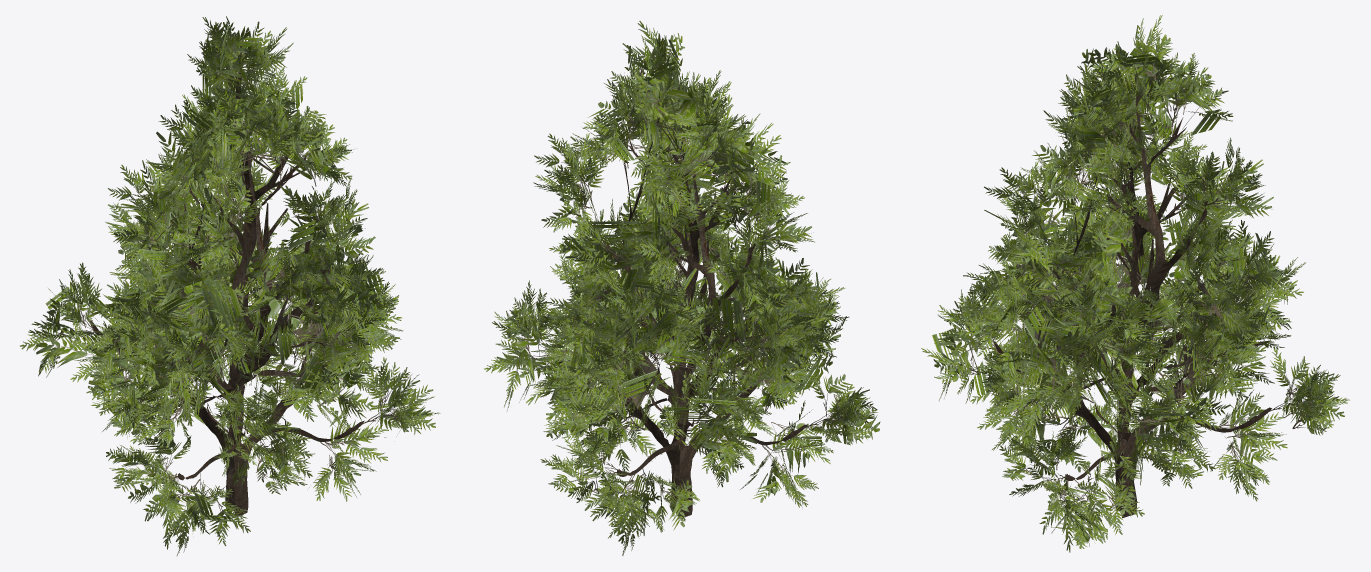
The model's file is tree_lp3.glb.
3 views of the same model, side by side, from view 1: azimuth 30°, elevation 25°; view 2: azimuth 150°, elevation 25°; view 3: azimuth 270°, elevation 25° (orthographic). The views are drawn at different scales.
Size of the model in its own units: 8.18 by 11.34 by 9.03.
Materials: 2 (2 with a texture image).
